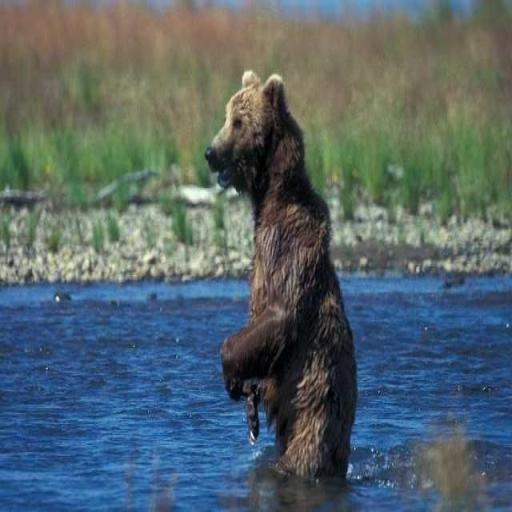Bear: (203, 67, 358, 482)
